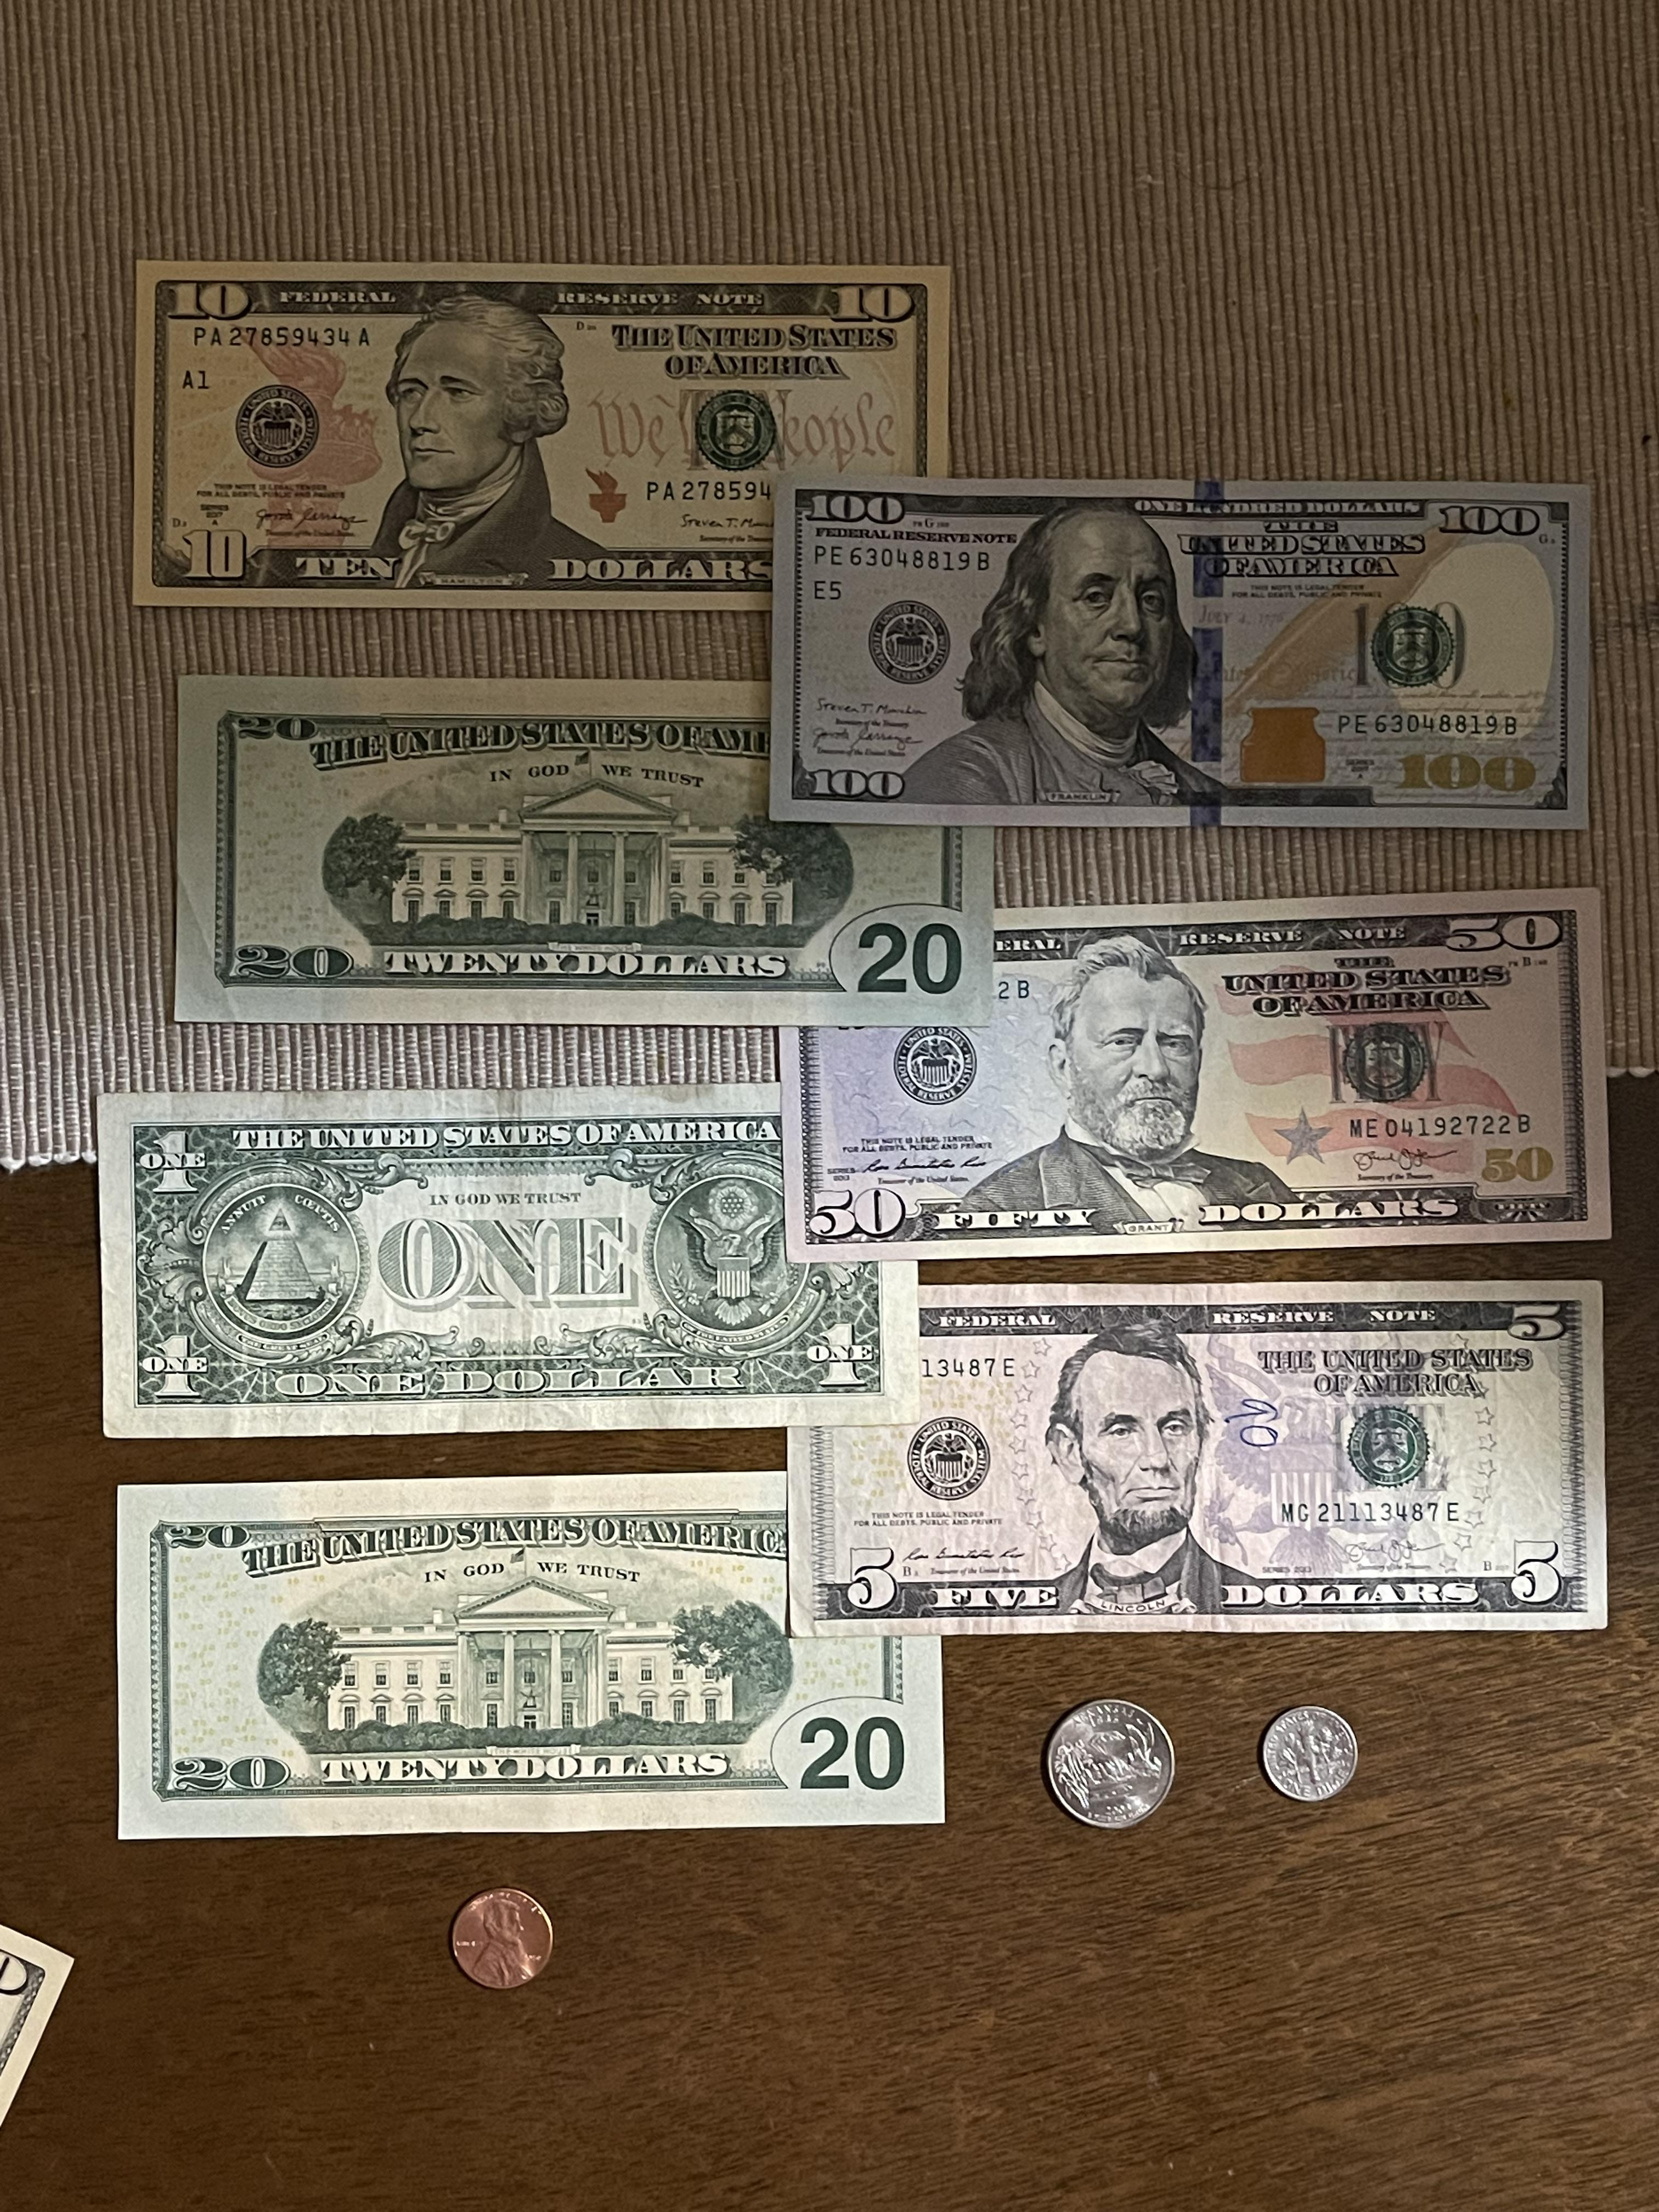Dime: (1262, 1703, 1358, 1803)
FiftyBill: (777, 885, 1612, 1264)
FiveBill: (786, 1277, 1607, 1637)
HundredBill: (767, 470, 1589, 833)
OneBill: (92, 1082, 920, 1442)
Penny: (451, 1888, 554, 1991)
Quarter: (1046, 1696, 1176, 1831)
TenBill: (127, 256, 951, 613)
TwentyBill: (115, 1470, 948, 1843), (171, 672, 993, 1028)
